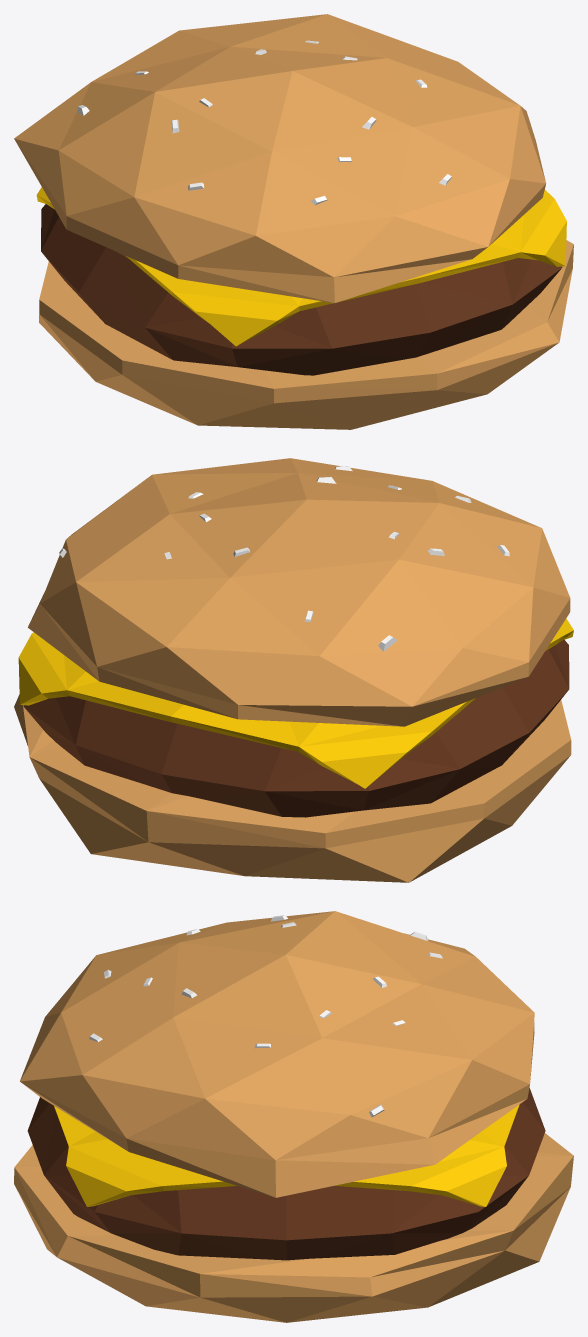
File: Cheeseburger.obj
3 views of the same model, one above another, from view 1: azimuth 30°, elevation 25°; view 2: azimuth 150°, elevation 25°; view 3: azimuth 270°, elevation 25° (orthographic). The views are drawn at different scales.
Parts seen in each view (by area): view 1: Cheeseburger_LightYellow, Cheeseburger_Brown, Cheeseburger_Cheese, Cheeseburger_White; view 2: Cheeseburger_LightYellow, Cheeseburger_Brown, Cheeseburger_Cheese, Cheeseburger_White; view 3: Cheeseburger_LightYellow, Cheeseburger_Brown, Cheeseburger_Cheese, Cheeseburger_White.
Part boxes in pixels (x1,y1,x2,y2): Cheeseburger_LightYellow: (14, 14, 573, 429); Cheeseburger_Brown: (41, 204, 562, 375); Cheeseburger_Cheese: (36, 187, 566, 346); Cheeseburger_White: (77, 40, 451, 205); Cheeseburger_LightYellow: (14, 458, 571, 882); Cheeseburger_Brown: (23, 639, 569, 817); Cheeseburger_Cheese: (18, 618, 573, 788); Cheeseburger_White: (59, 466, 509, 651); Cheeseburger_LightYellow: (14, 911, 573, 1322); Cheeseburger_Brown: (27, 1088, 545, 1260); Cheeseburger_Cheese: (54, 1104, 519, 1206); Cheeseburger_White: (89, 915, 442, 1117).
Size of the model in its own units: 1.46 by 0.9382 by 1.54.
